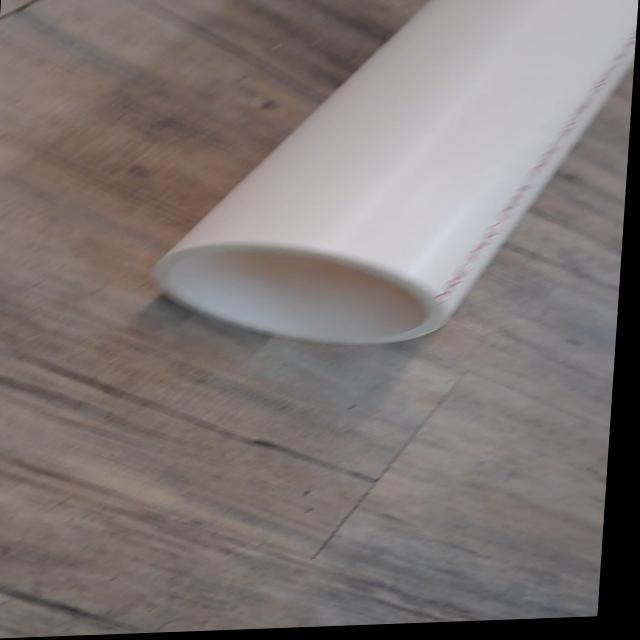CORAL: (147, 0, 640, 362)
